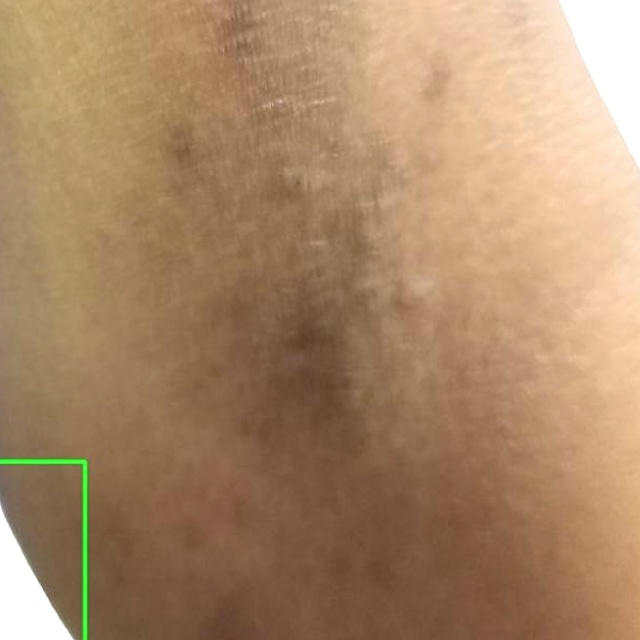Eczema: (0, 461, 85, 639)
